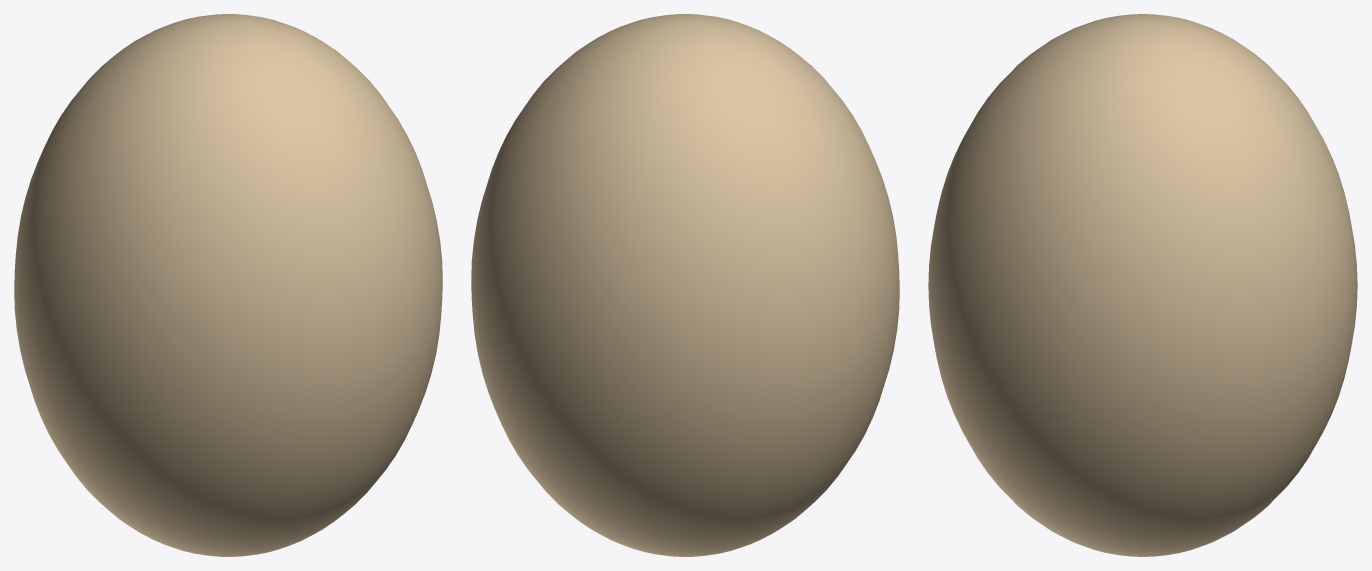
Rendered from Egg.fbx.
3 views of the same model, side by side, from view 1: azimuth 30°, elevation 25°; view 2: azimuth 150°, elevation 25°; view 3: azimuth 270°, elevation 25° (orthographic).
Visible parts, largest first — view 1: Egg; view 2: Egg; view 3: Egg.
Part boxes in pixels (x1,y1,x2,y2): Egg: (14,14,442,556); Egg: (471,14,899,556); Egg: (928,14,1357,556).
Size of the model in its own units: 0.7878 by 1.04 by 0.7878.
